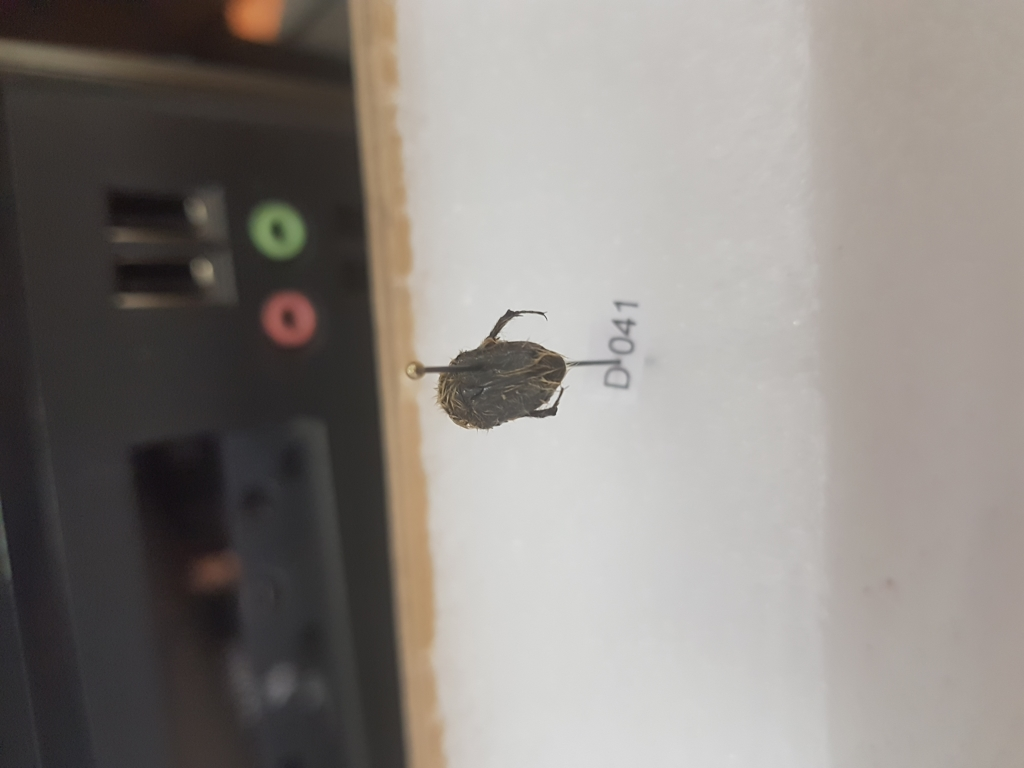Tropinota_senicula: (432, 290, 577, 433)
